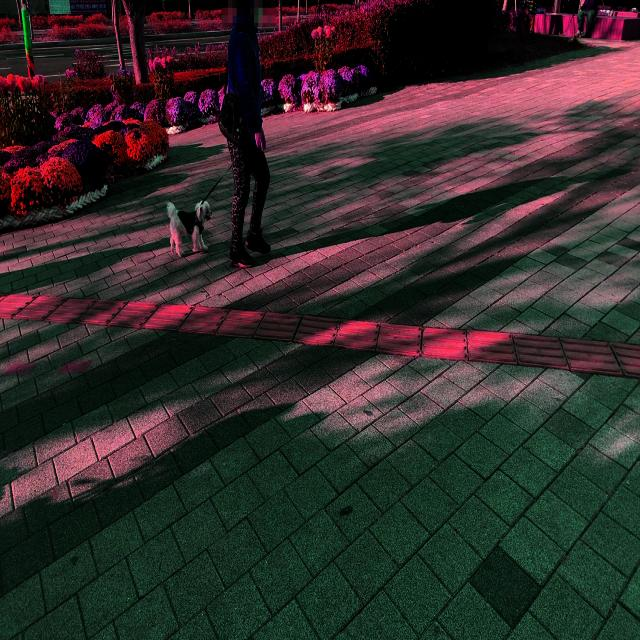Leashed_Dog: (166, 148, 247, 260)
